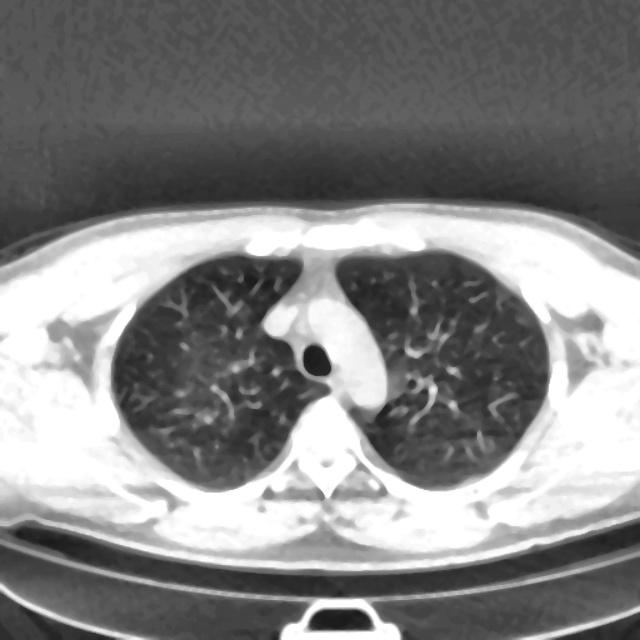covid: (0, 198, 639, 578)
